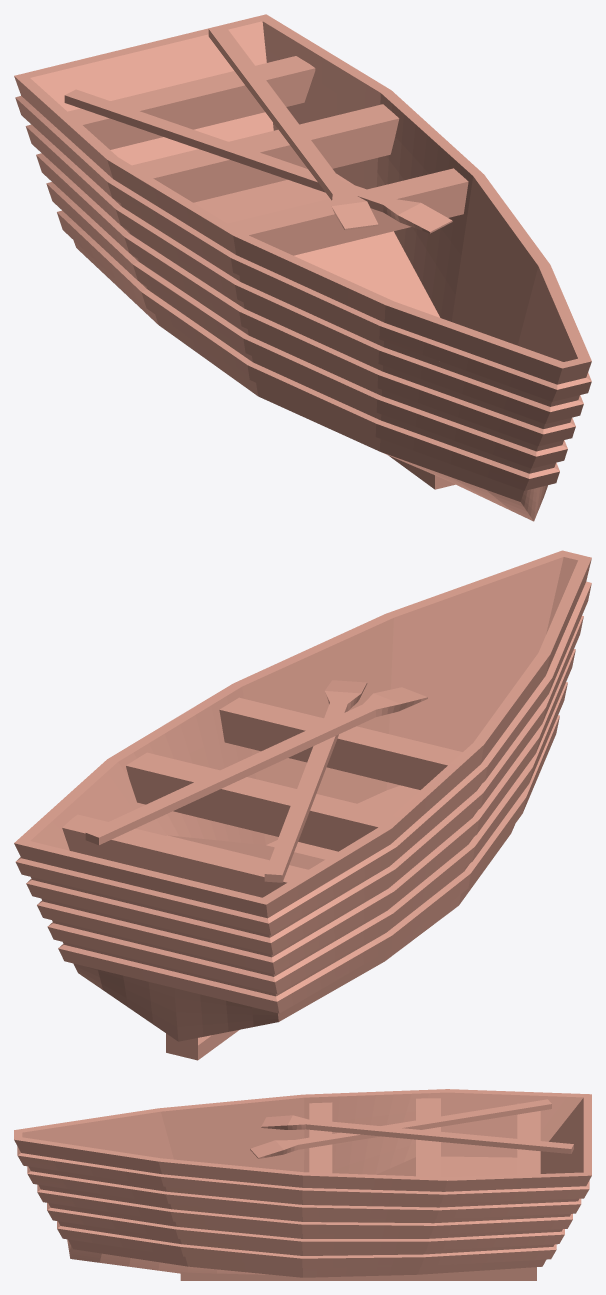
The model's file is Boat.fbx.
3 renders of one model, top to bottom at view 1: azimuth 30°, elevation 25°; view 2: azimuth 150°, elevation 25°; view 3: azimuth 270°, elevation 25°, orthographic. The views are drawn at different scales.
Visible parts, largest first — view 1: Plane; view 2: Plane; view 3: Plane.
Boxes of the visible parts, x1,y1,x2,y2 form: Plane: (14, 14, 591, 521); Plane: (14, 550, 591, 1060); Plane: (14, 1089, 591, 1280).
Bounding box in the file's own units: 229 × 171 × 600.
